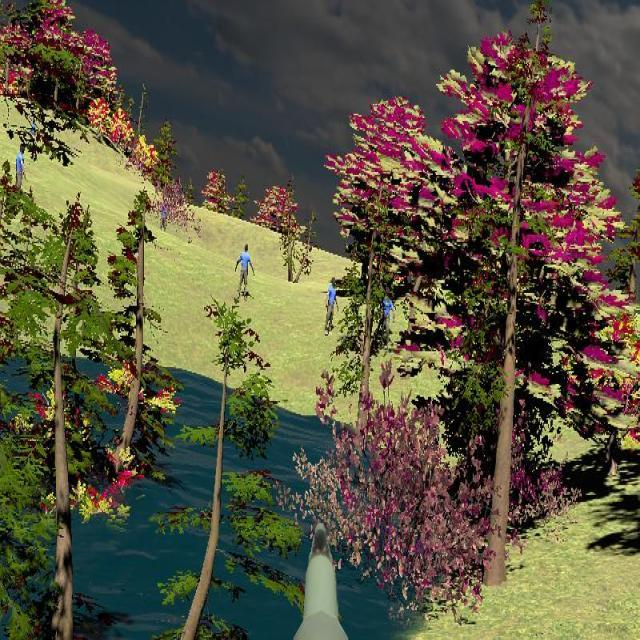Human: (235, 243, 255, 301), (15, 143, 26, 215), (325, 277, 338, 336)
